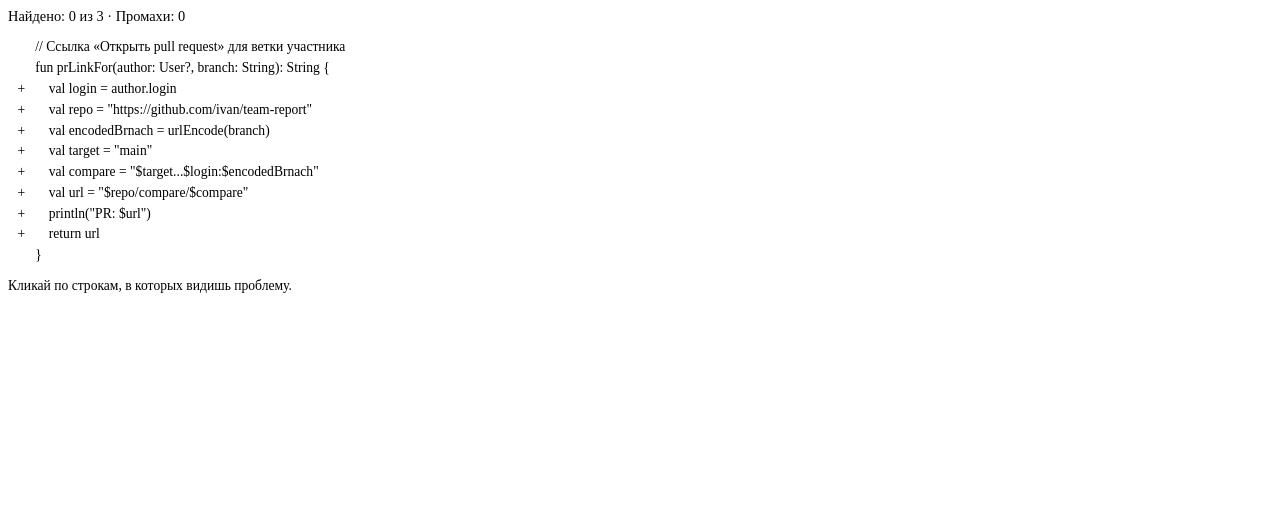
Test: finding all 3 without misses shows review, marks done and awards xp
The width and height of the screenshot is (1280, 517).
Click the button "+ val login = author.login".
click(106, 88)  # box [8,79,1272,99]
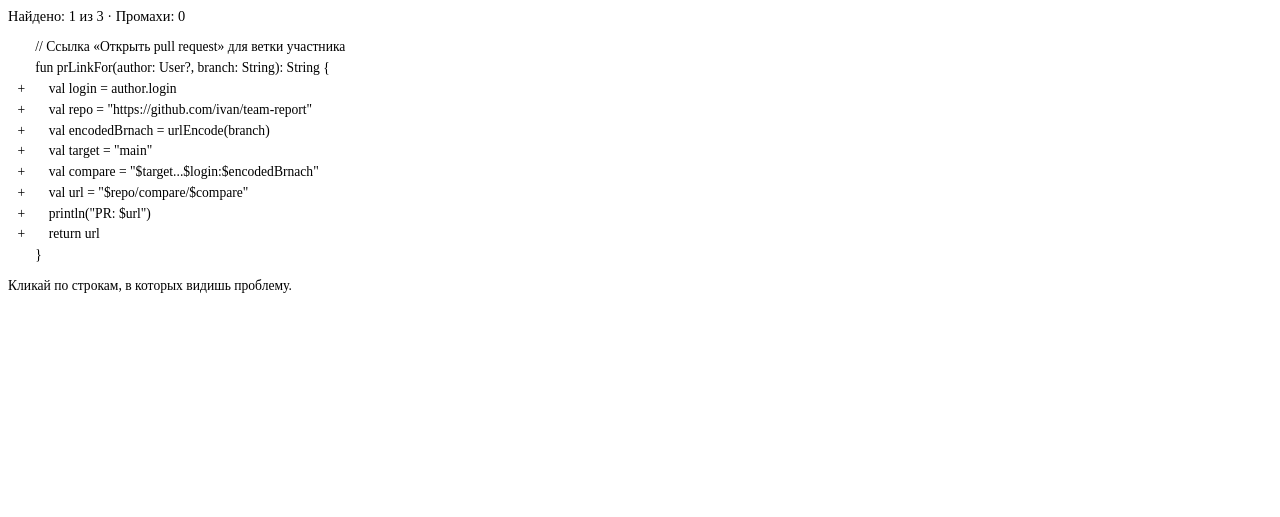
Click the button "+ val repo = \"https://github.com/ivan/team-report\"".
click(174, 109)  # box [8,99,1272,120]
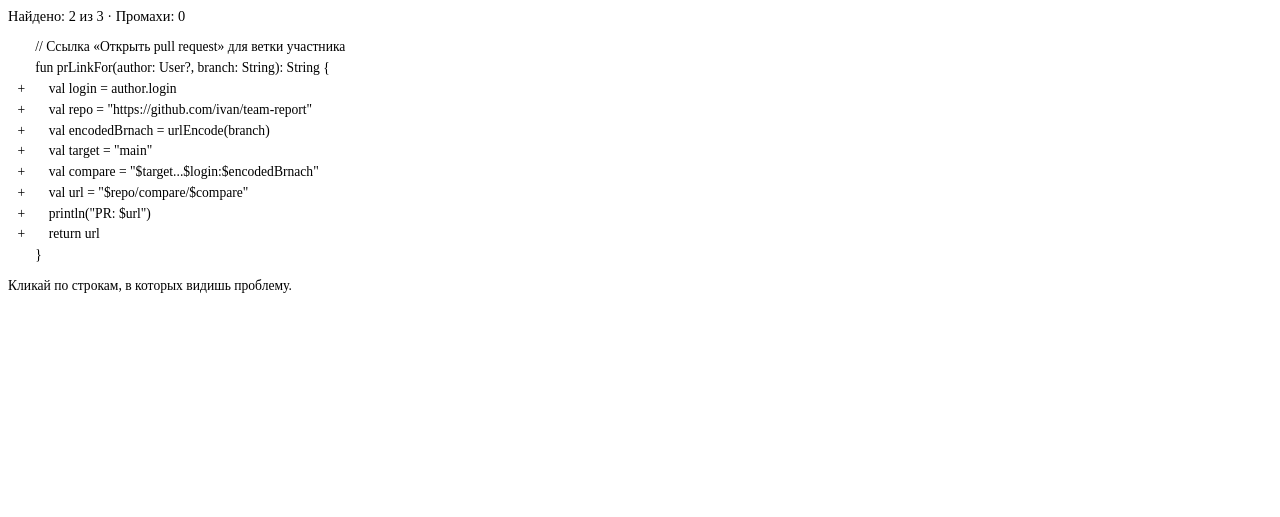
Click the button "+ val encodedBrnach = urlEncode(branch)".
click(152, 130)  # box [8,120,1272,141]
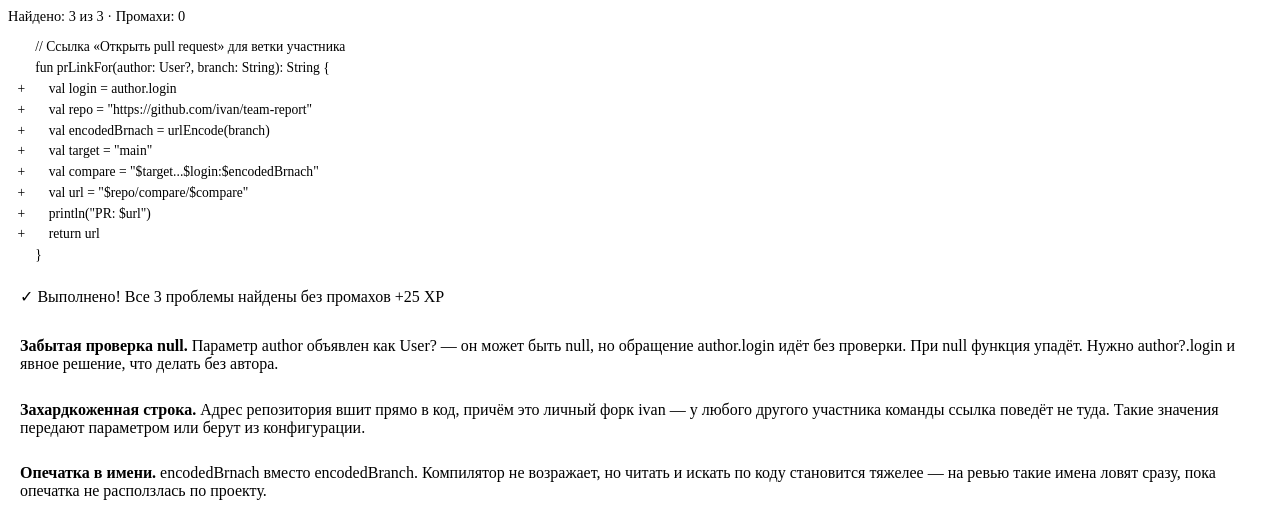
Expected: the text "✓ Выполнено! Все 3 проблемы найдены без промахов +25 XP" is shown, [20,288,444,305]
Expected: the text "Забытая проверка null." is shown, [20,337,188,354]
Expected: the text "Захардкоженная строка." is shown, [20,401,196,418]
